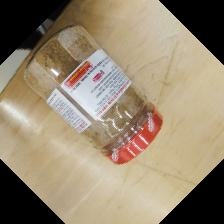Hao_hao: (20, 22, 165, 170)
